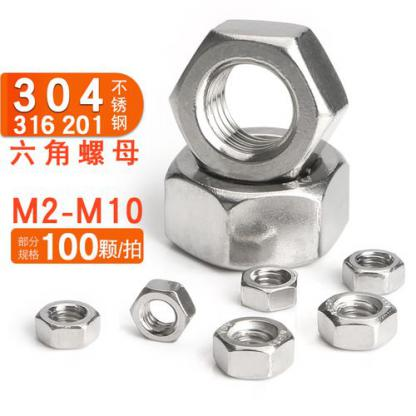FOD: (165, 16, 349, 189), (162, 124, 356, 272), (207, 313, 297, 379), (314, 289, 402, 350), (128, 277, 198, 346), (33, 298, 103, 352), (337, 246, 409, 292), (235, 265, 299, 312)
